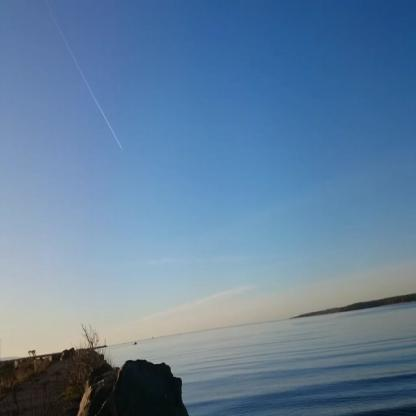CIV_Plane: (120, 146, 122, 150)
